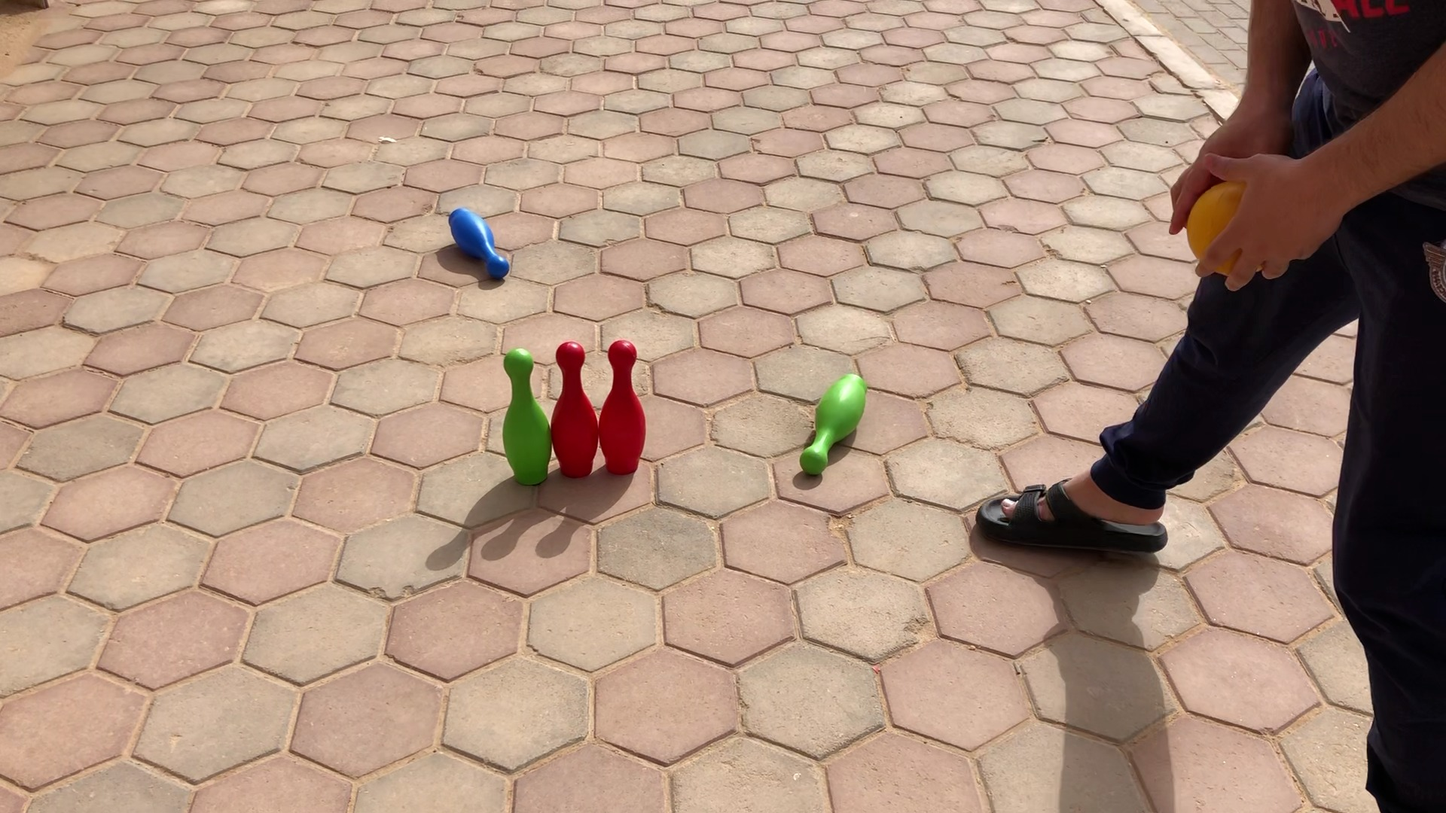bowling-pin: (502, 348, 551, 485), (551, 342, 599, 478), (599, 340, 646, 475), (801, 374, 864, 473), (449, 208, 512, 279)
